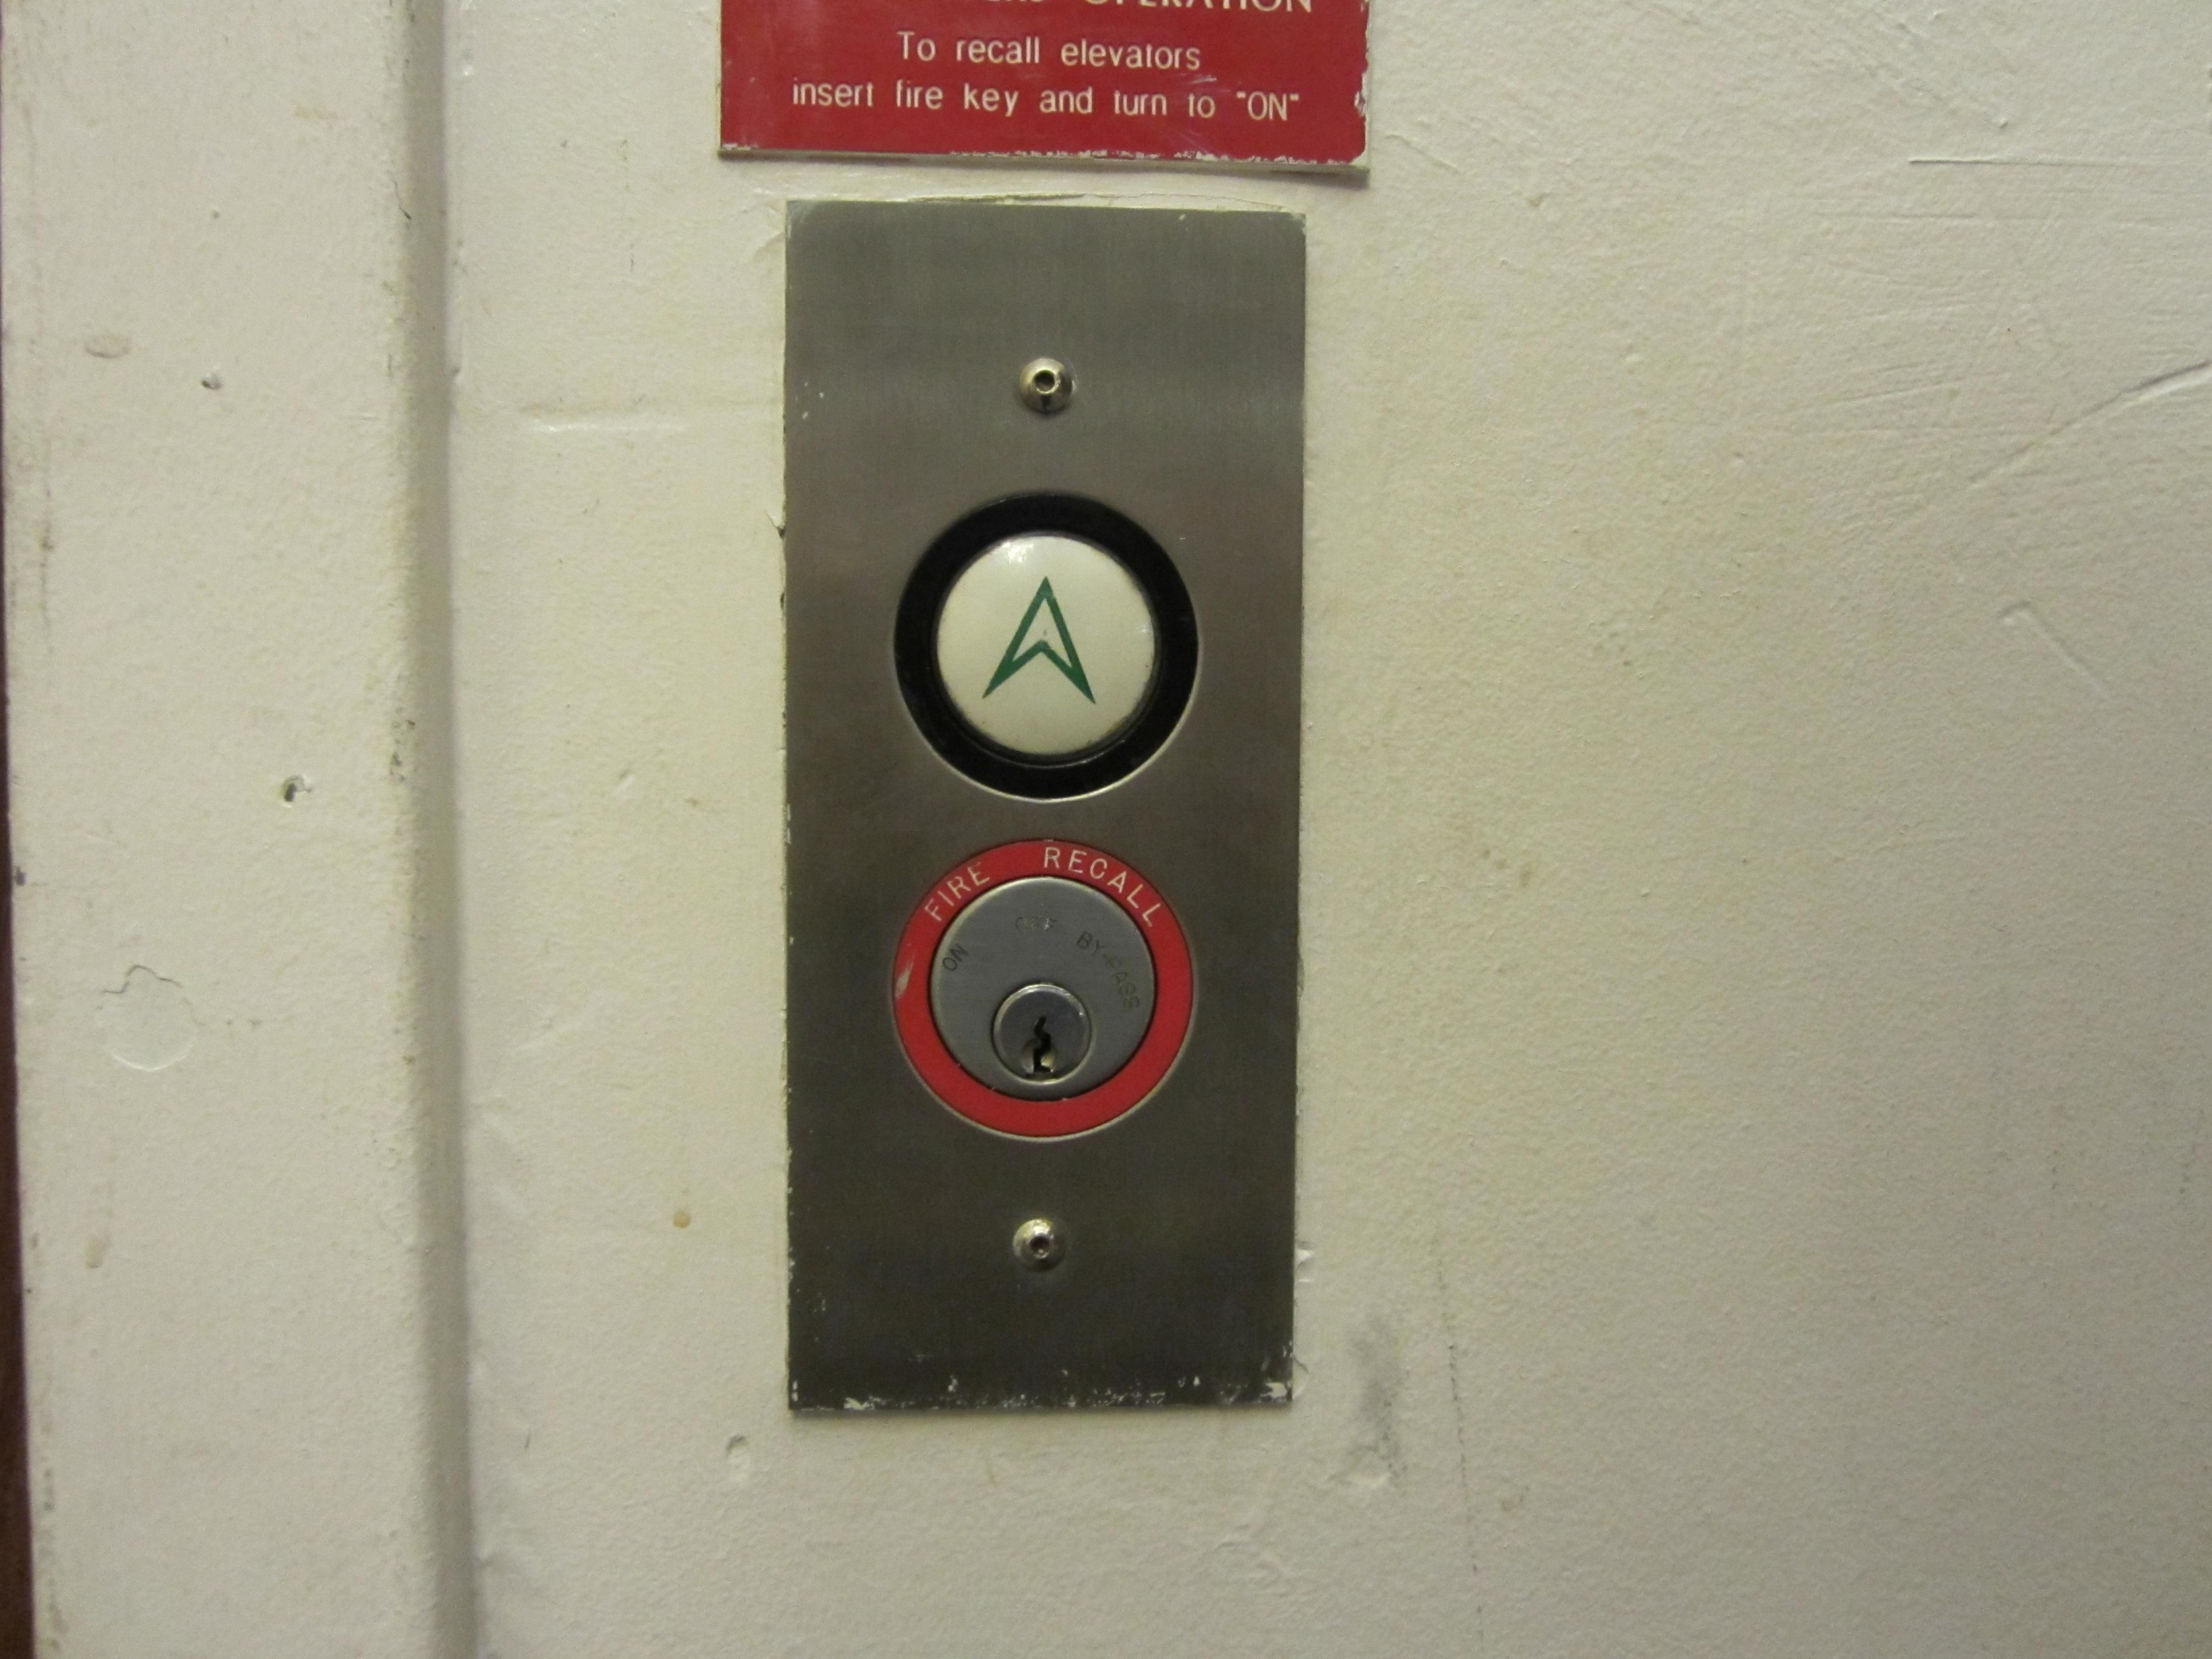keyhole: (878, 824, 1205, 1162)
up: (887, 479, 1212, 817)
